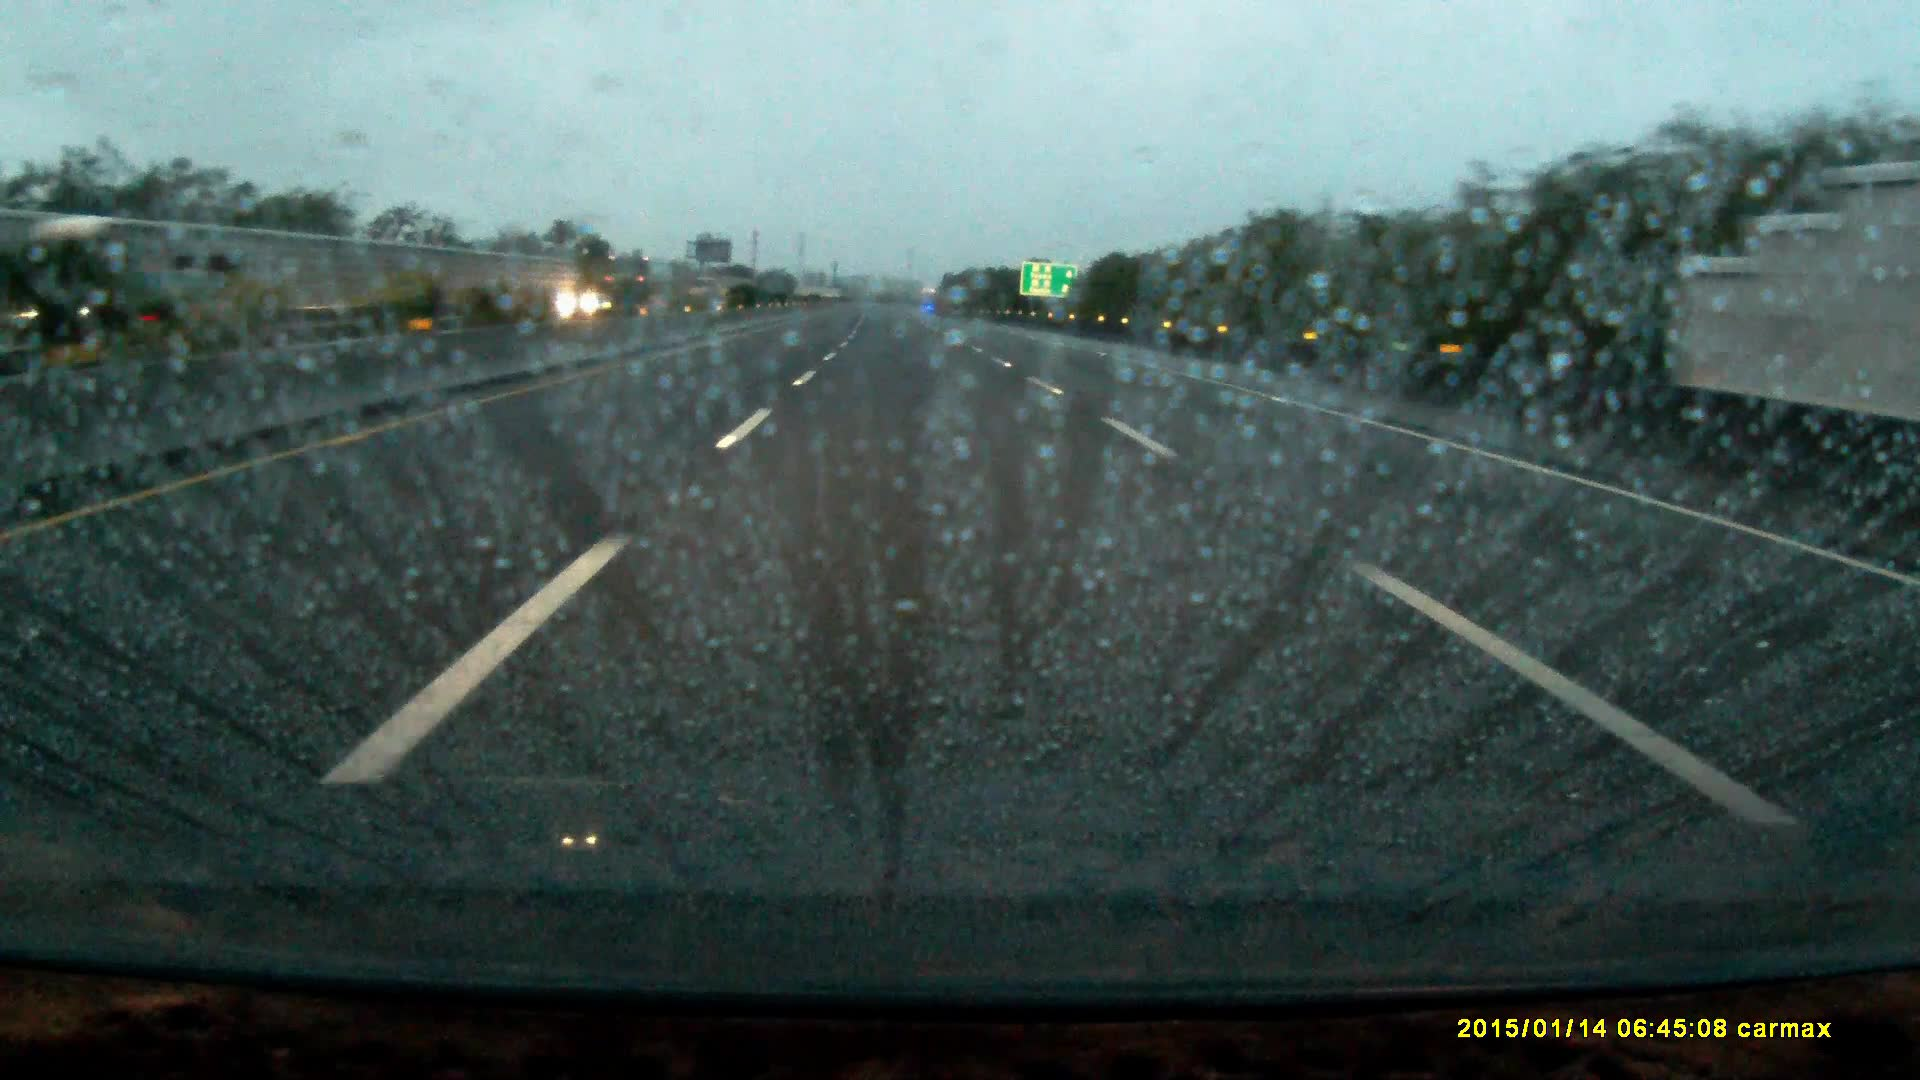vehicle: (29, 216, 272, 368), (605, 257, 675, 316)
